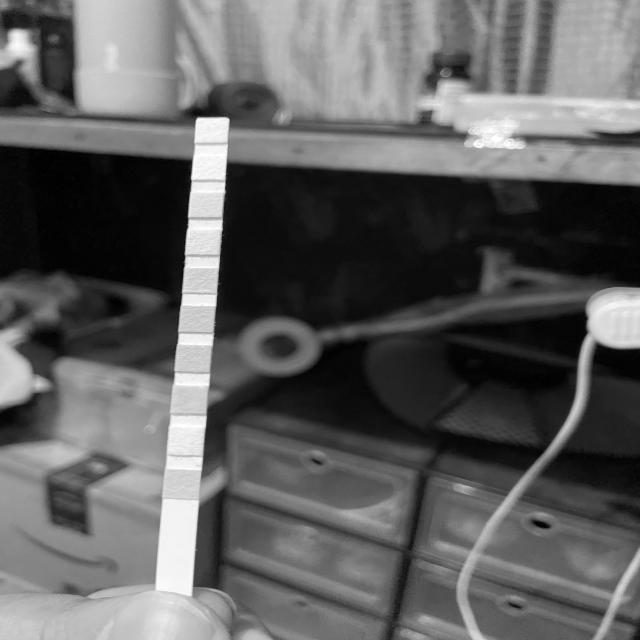Bilirubin: (170, 429, 203, 454)
Blood: (181, 307, 214, 331)
Glucose: (166, 471, 199, 496)
Ketone: (174, 388, 206, 412)
Leukocytes: (198, 120, 226, 141)
Nitrite: (195, 157, 224, 179)
Protein: (187, 232, 220, 254)
SpGravity: (178, 346, 210, 371)
Urobilinogen: (191, 195, 221, 216)
background: (0, 0, 640, 640)
pH: (185, 269, 215, 292)
strip: (156, 118, 230, 591)
